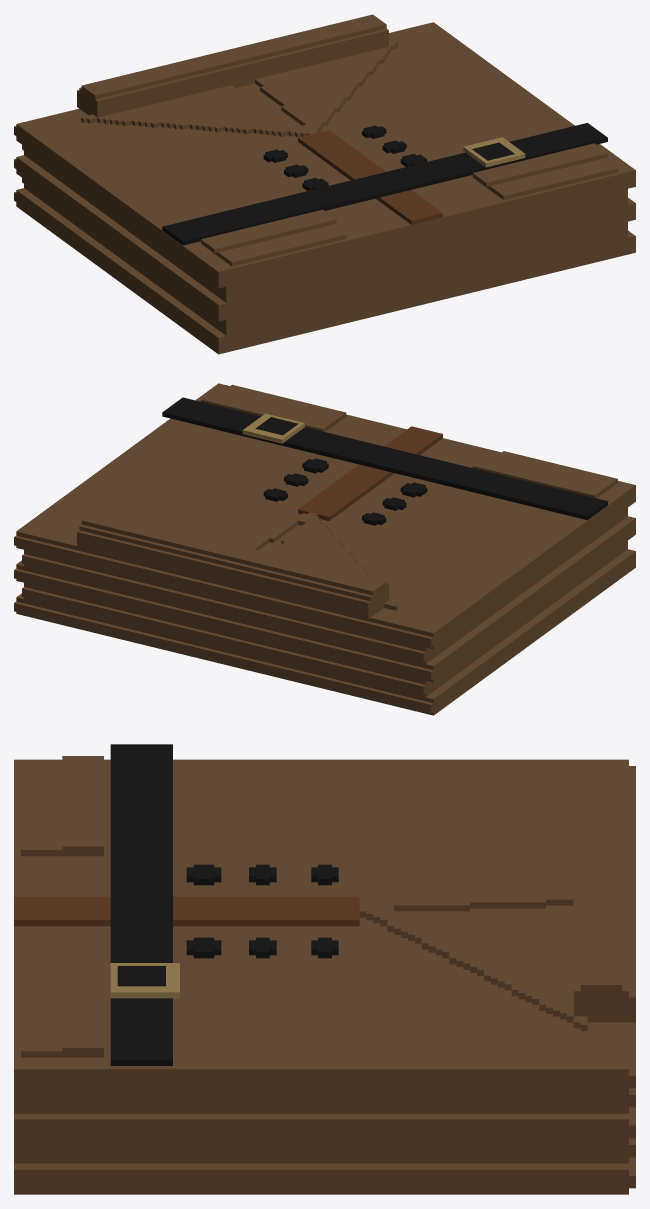
Rendered from trenchcoat_fur.glb.
3 renders of one model, top to bottom at view 1: azimuth 30°, elevation 25°; view 2: azimuth 150°, elevation 25°; view 3: azimuth 270°, elevation 25°, orthographic. The views are drawn at different scales.
Visible parts, largest first — view 1: trenchcoat_fur:compound; view 2: trenchcoat_fur:compound; view 3: trenchcoat_fur:compound.
Boxes of the visible parts, box(x1,y1,x2,y2) form: trenchcoat_fur:compound: box(14, 14, 635, 354); trenchcoat_fur:compound: box(14, 383, 635, 715); trenchcoat_fur:compound: box(14, 744, 635, 1194).
Size of the model in its own units: 0.432 by 0.104 by 0.36.
